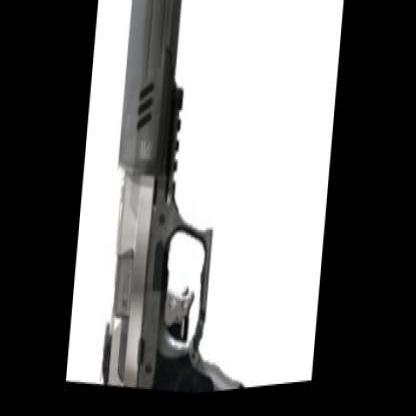pistol: (100, 0, 326, 402)
